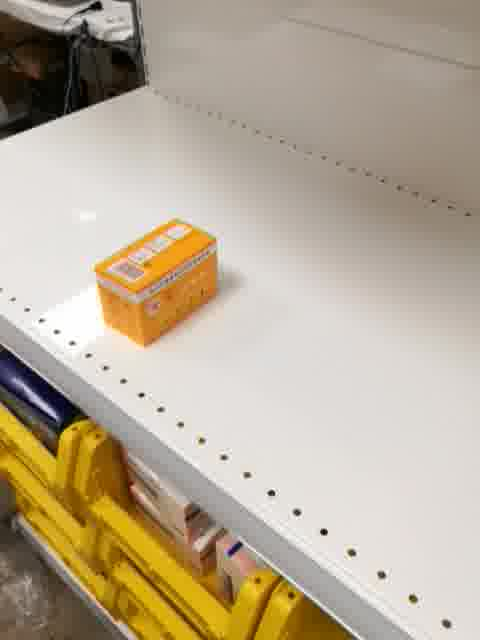jasminetea: (93, 215, 219, 350)
